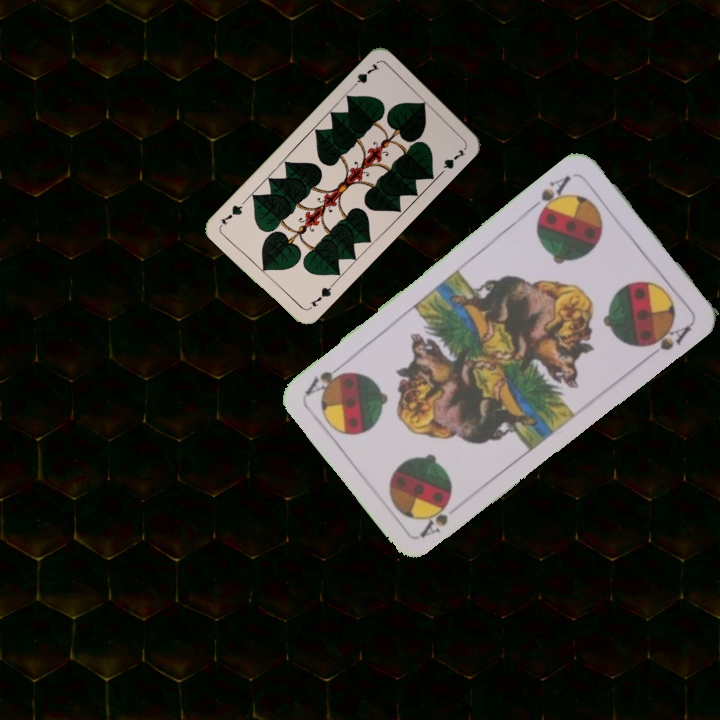G7: (347, 59, 381, 91), (304, 280, 336, 312)
SA: (527, 171, 574, 220), (416, 493, 455, 540)
